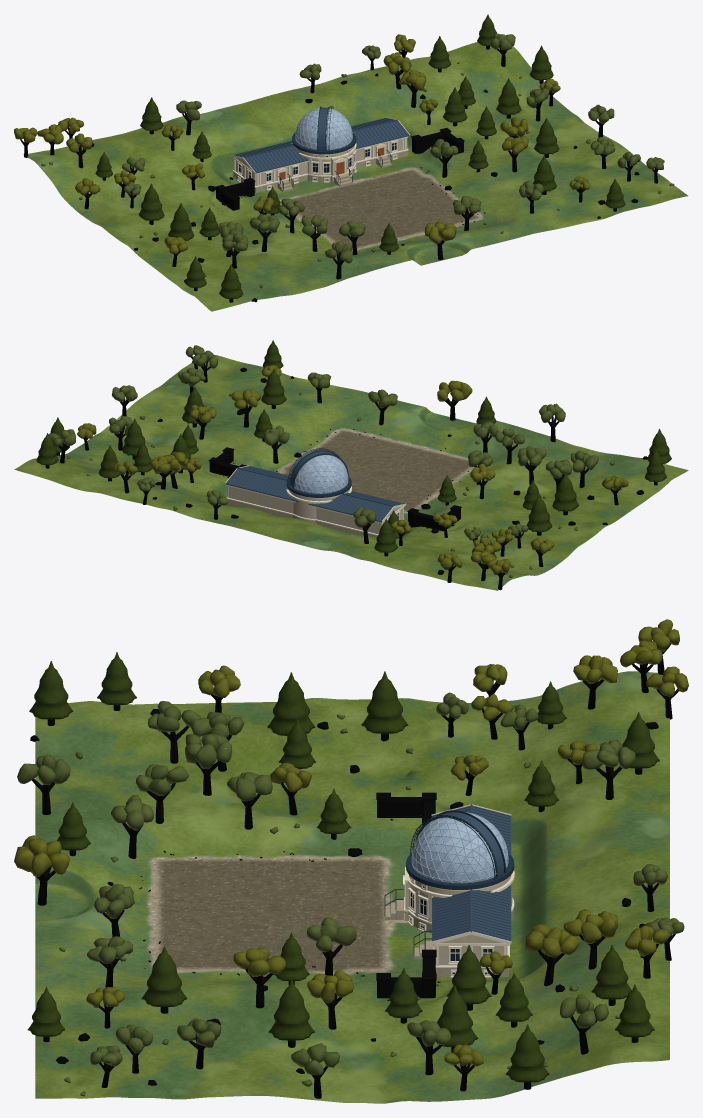
Rendered from surroundings_13x11.glb.
3 views of the same model, one above another, from view 1: azimuth 30°, elevation 25°; view 2: azimuth 150°, elevation 25°; view 3: azimuth 270°, elevation 25° (orthographic). The views are drawn at different scales.
Parts seen in each view (by area): view 1: ground, props, lab; view 2: ground, props, lab; view 3: ground, props, lab.
Part boxes in pixels (x1=…): ground: x1=23, y1=42, x2=688, y2=311; props: x1=14, y1=14, x2=674, y2=302; lab: x1=231, y1=106, x2=409, y2=192; ground: x1=14, y1=354, x2=688, y2=590; props: x1=36, y1=340, x2=671, y2=590; lab: x1=225, y1=448, x2=406, y2=537; ground: x1=35, y1=671, x2=669, y2=1103; props: x1=14, y1=619, x2=688, y2=1098; lab: x1=384, y1=804, x2=514, y2=977.
Size of the model in its own units: 59.19 by 7.68 by 41.48.
4 materials, 4 textured.
